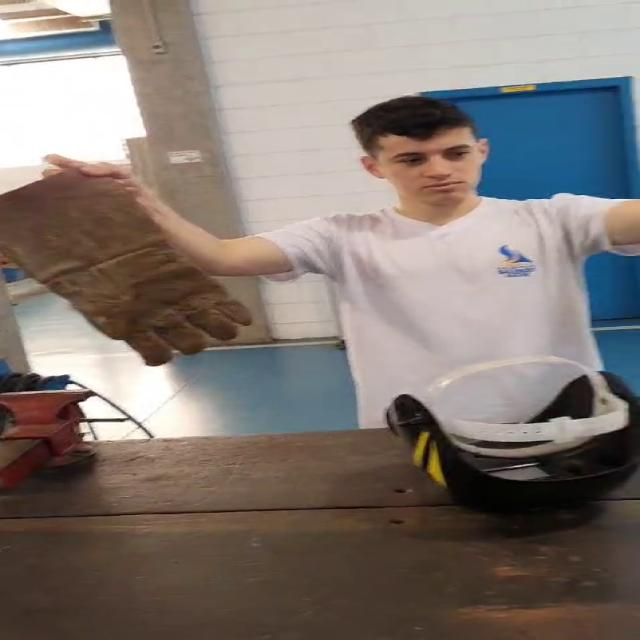sem_oculos: (365, 145, 509, 171)
